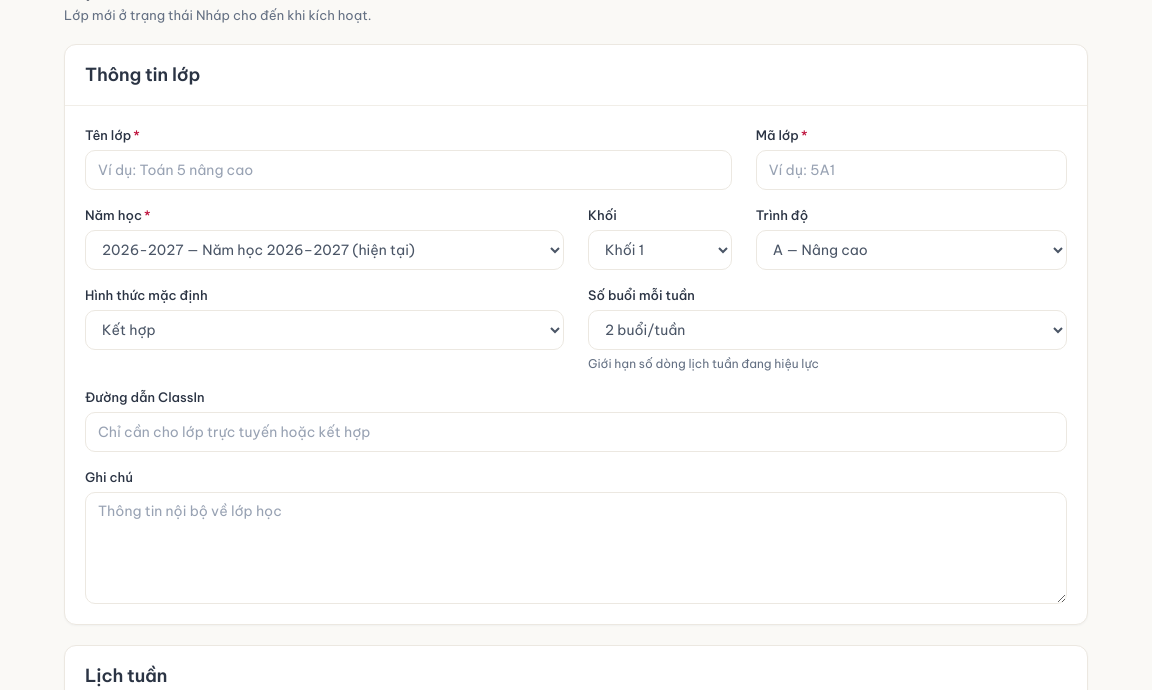
Test: ClassFormPage — create › uses the action overrides instead of the real actions
Type "Toán 6B" into the field labelled "Tên lớp" at (408, 170), box left=85, top=150, right=732, bottom=190
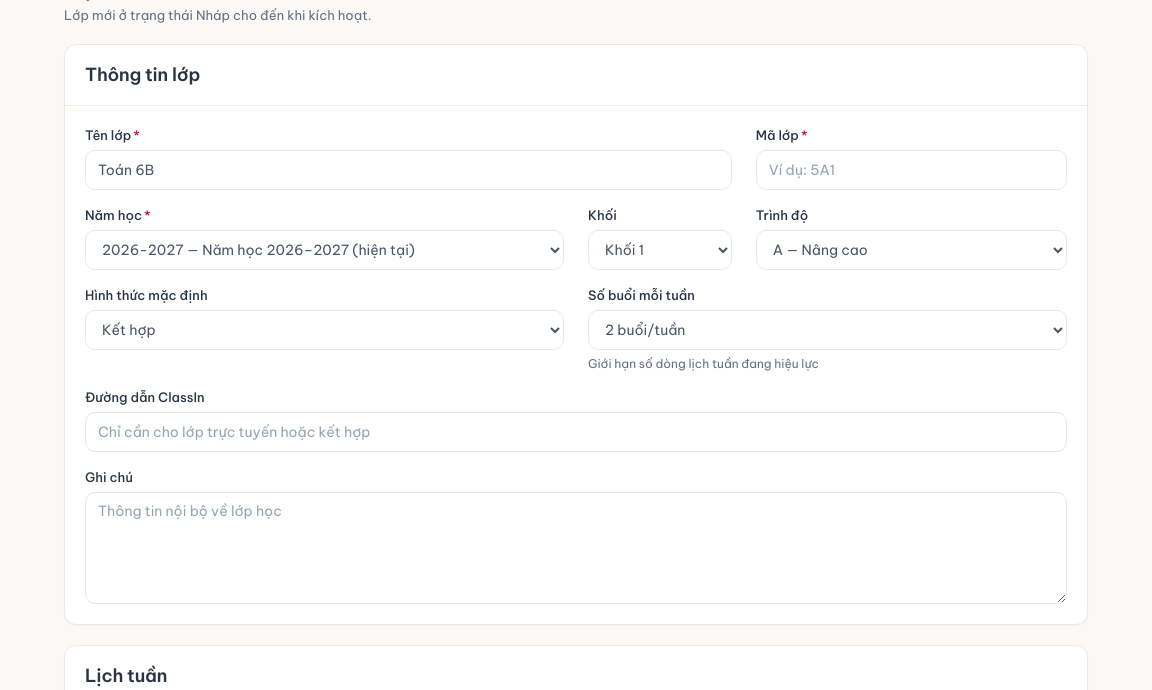
Type "6B1" into the field labelled "Mã lớp" at (911, 170), box left=756, top=150, right=1067, bottom=190
(page scrolled)
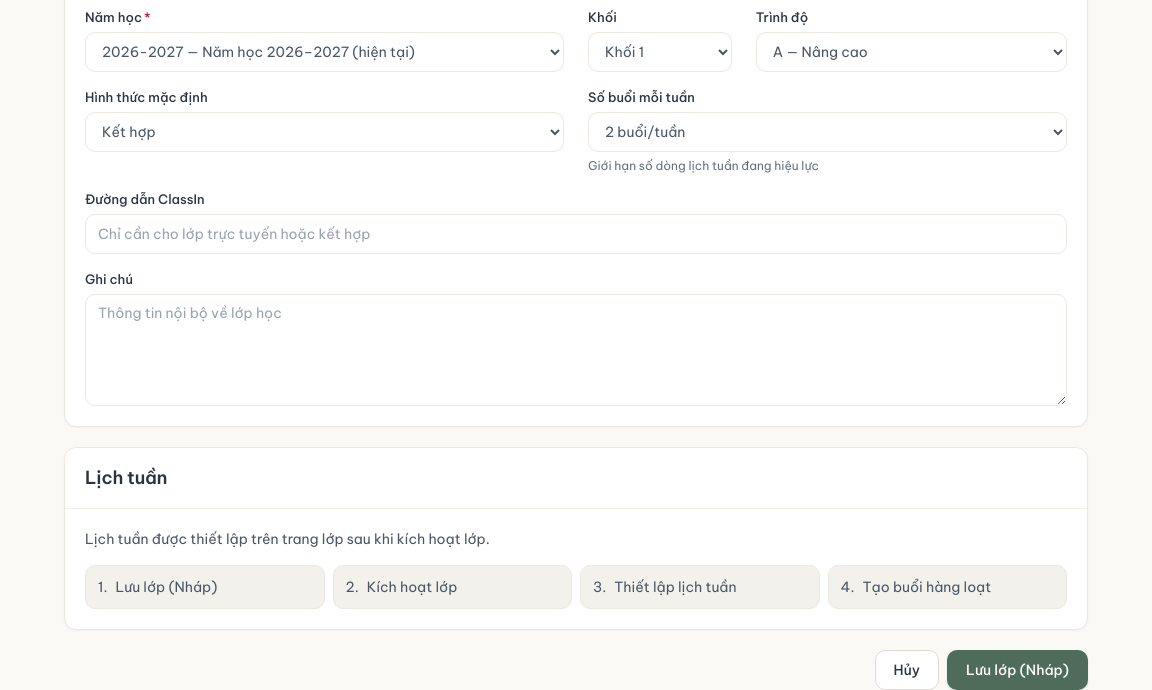
Click the button "Lưu lớp (Nháp)" at (1018, 670), box left=947, top=650, right=1088, bottom=689
(page scrolled)
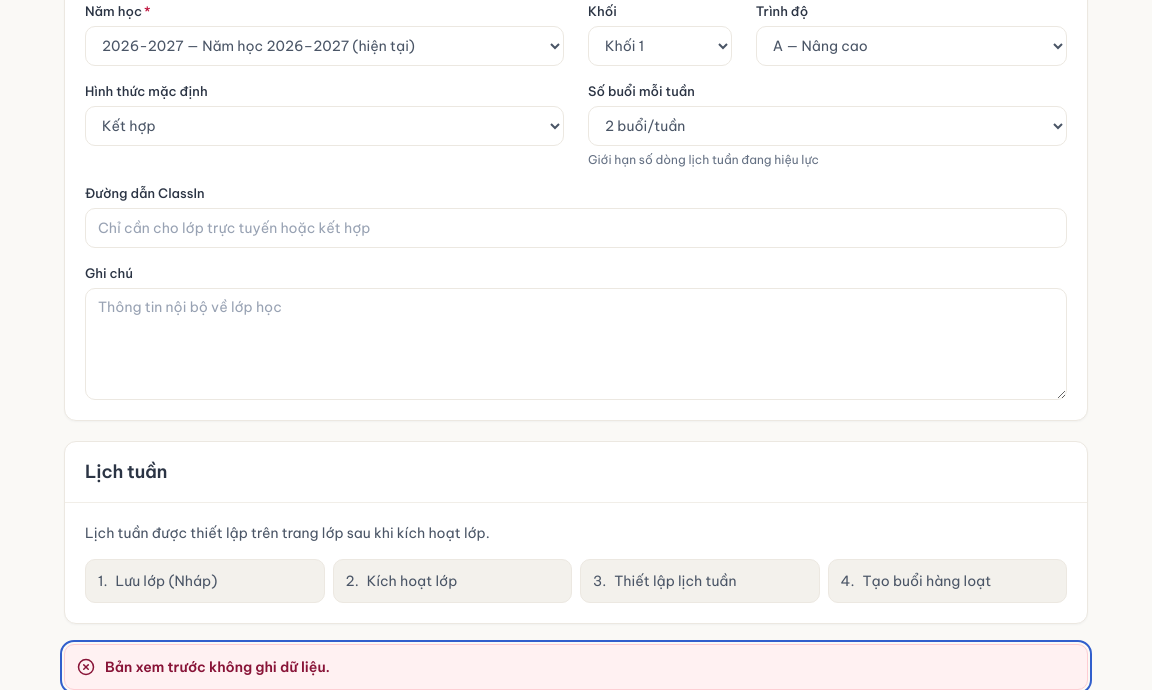
expect the text "Bản xem trước không ghi dữ liệu." is shown: met, box left=105, top=658, right=330, bottom=676
